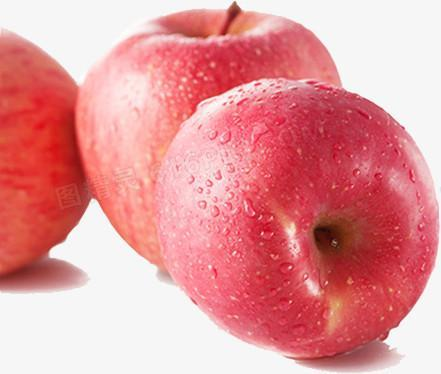apple: (152, 80, 440, 359), (74, 6, 345, 276), (1, 25, 83, 278)
